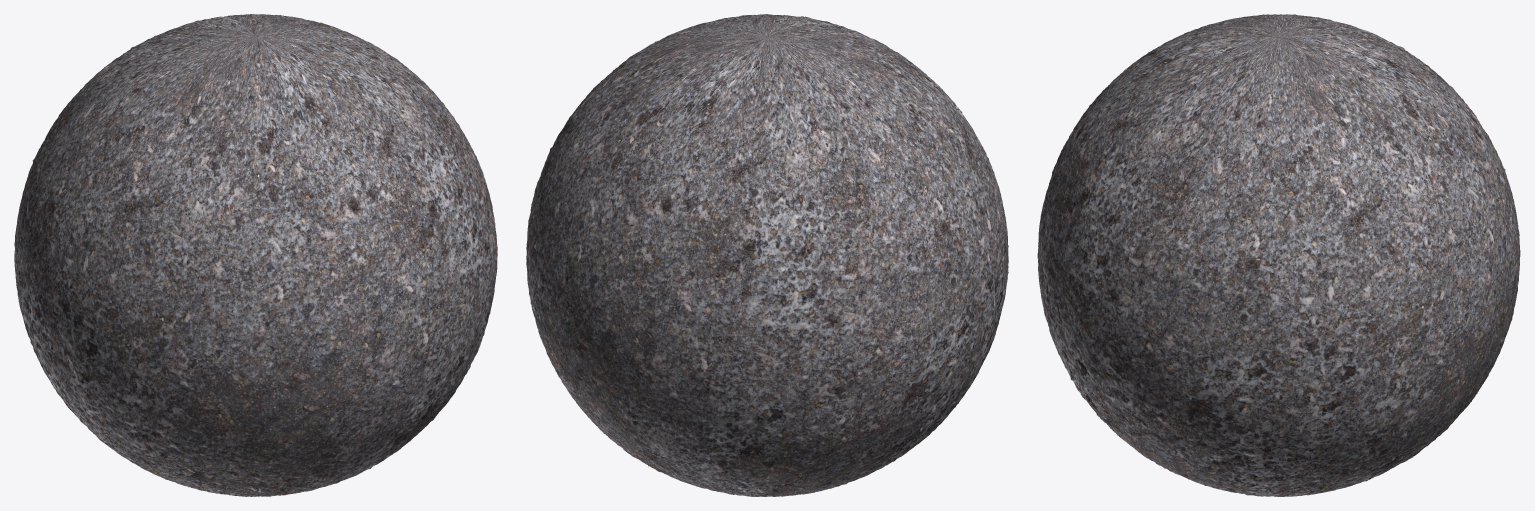
File: asphalt_snow_1k.gltf
3 renders of one model, left to right at view 1: azimuth 30°, elevation 25°; view 2: azimuth 150°, elevation 25°; view 3: azimuth 270°, elevation 25°, orthographic.
Parts seen in each view (by area): view 1: sphere_gltf; view 2: sphere_gltf; view 3: sphere_gltf.
Boxes of the visible parts, bbox=[...] form: sphere_gltf: bbox=[14, 14, 497, 496]; sphere_gltf: bbox=[526, 14, 1008, 496]; sphere_gltf: bbox=[1037, 14, 1520, 496].
Size of the model in its own units: 2.01 by 2.01 by 2.01.
Materials: 1 (1 with a texture image).
